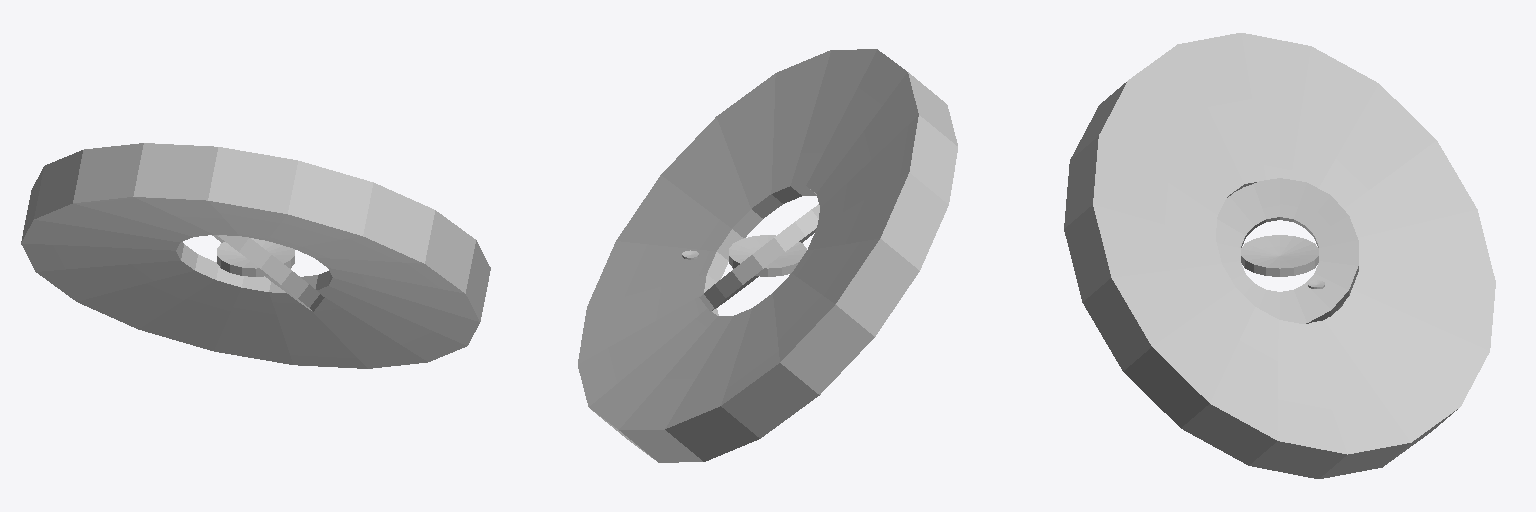
The picture shows the model from 3 angles: view 1: azimuth 30°, elevation 25°; view 2: azimuth 150°, elevation 25°; view 3: azimuth 270°, elevation 25°; orthographic projection.
Parts seen in each view (by area): view 1: disk_3_disk_3_Mesh, disk_2_disk_2_Mesh, disk_1_disk_1_Mesh; view 2: disk_3_disk_3_Mesh, disk_2_disk_2_Mesh, disk_1_disk_1_Mesh; view 3: disk_3_disk_3_Mesh, disk_2_disk_2_Mesh, disk_1_disk_1_Mesh.
Boxes of the visible parts, x1=… form: disk_3_disk_3_Mesh: x1=21, y1=143, x2=490, y2=368; disk_2_disk_2_Mesh: x1=212, y1=235, x2=324, y2=311; disk_1_disk_1_Mesh: x1=217, y1=238, x2=294, y2=276; disk_3_disk_3_Mesh: x1=578, y1=49, x2=957, y2=462; disk_2_disk_2_Mesh: x1=699, y1=204, x2=819, y2=311; disk_1_disk_1_Mesh: x1=729, y1=235, x2=806, y2=276; disk_3_disk_3_Mesh: x1=1064, y1=33, x2=1495, y2=478; disk_2_disk_2_Mesh: x1=1216, y1=178, x2=1358, y2=323; disk_1_disk_1_Mesh: x1=1241, y1=235, x2=1318, y2=276.
Bounding box in the file's own units: 215 × 185 × 215.